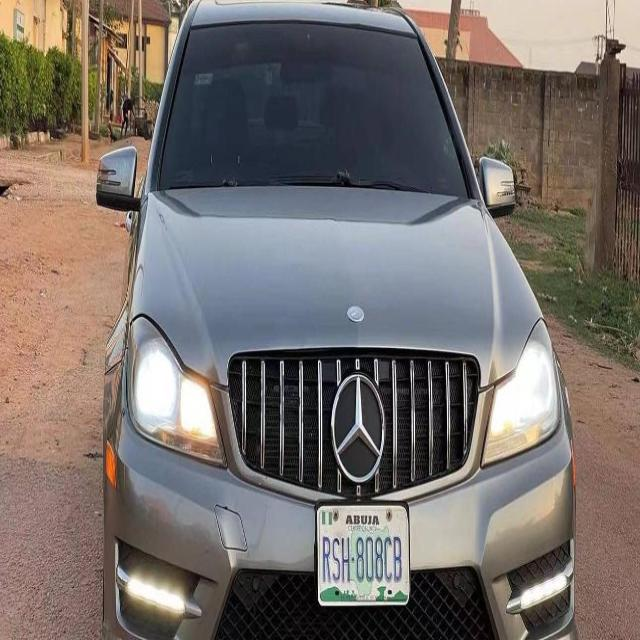Nigerian License Plate - vdataset benjamin-daria: (313, 498, 415, 616)
